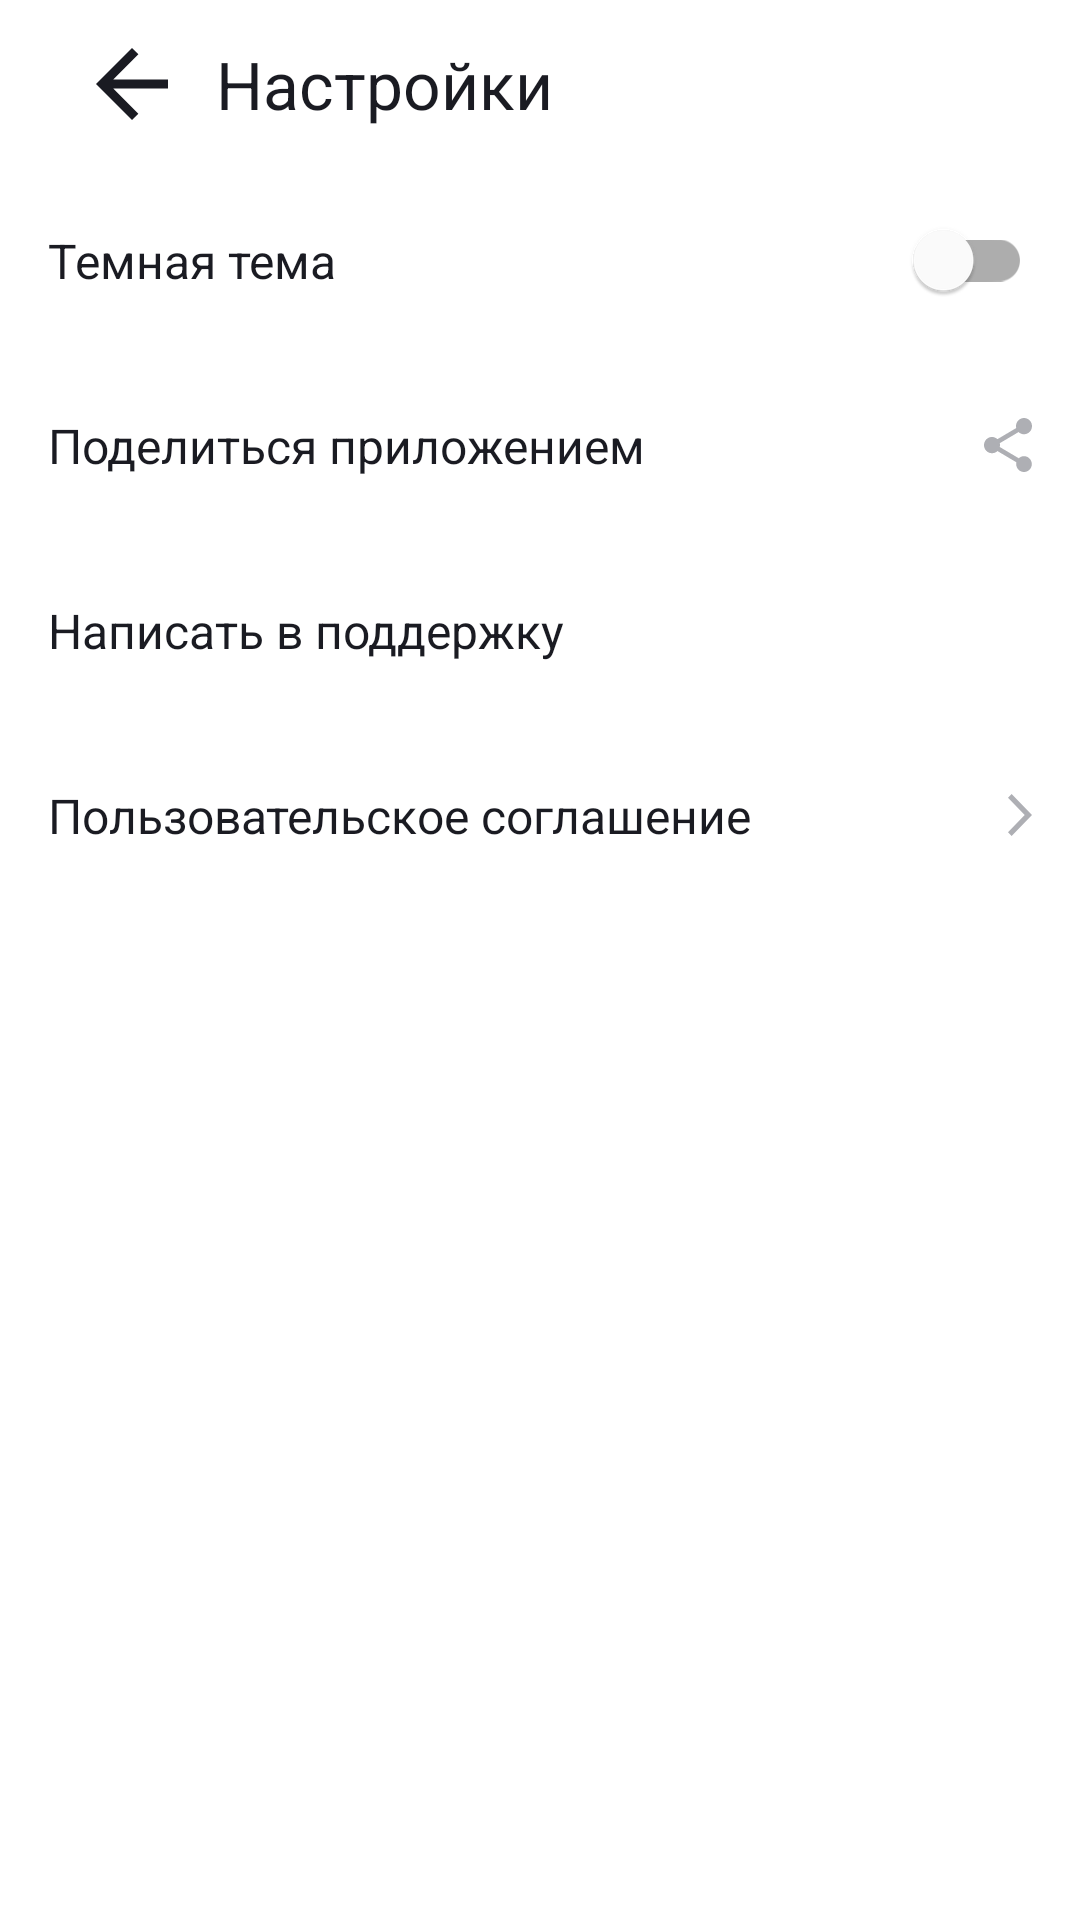

Icons on this 1080px×1920px Android screen, each with the point to tap as (x=x, y=y):
arrow back: (x=132, y=84)
